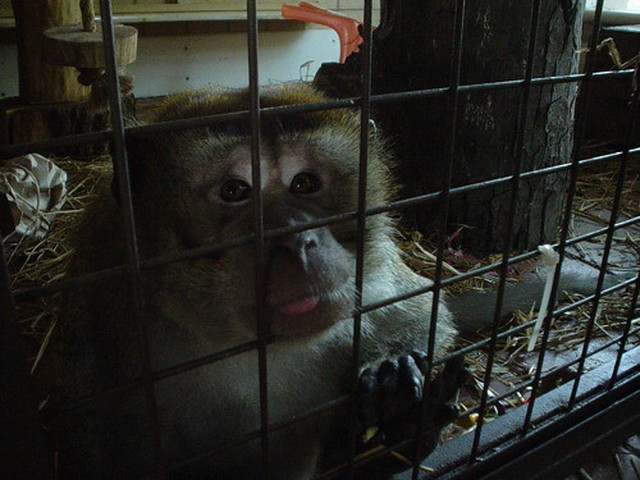Monkey: (53, 83, 450, 478)
